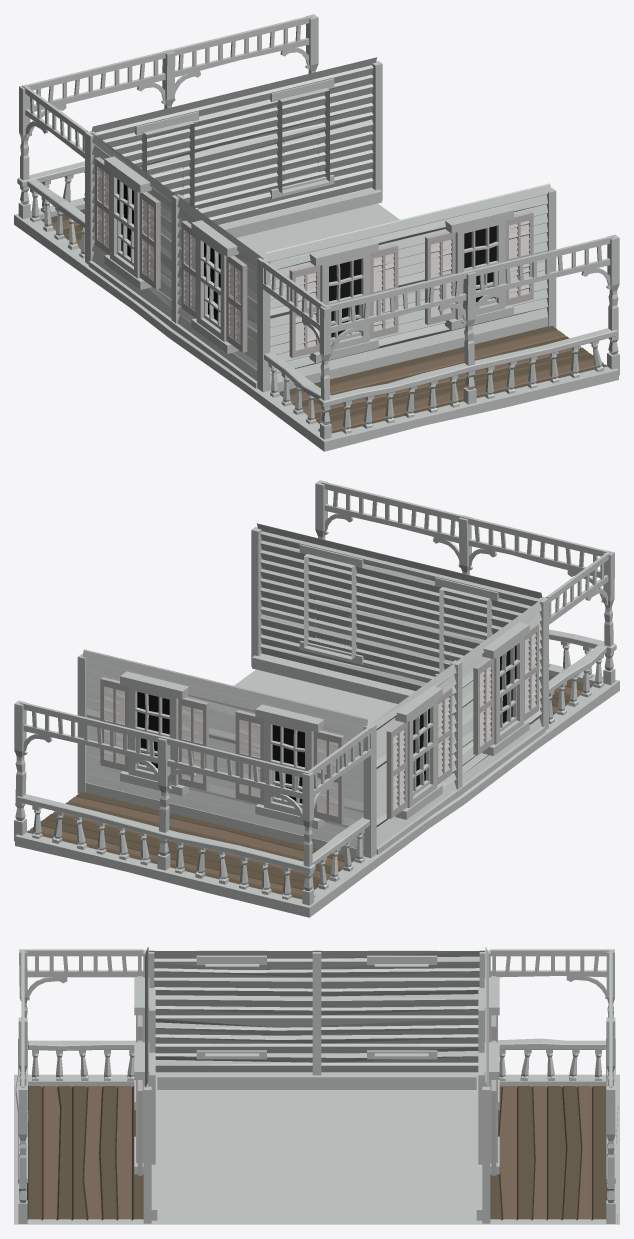
Rendered from SM_Bld_Mansion_End_02.glb.
The picture shows the model from 3 angles, top to bottom: view 1: azimuth 30°, elevation 25°; view 2: azimuth 150°, elevation 25°; view 3: azimuth 270°, elevation 25°; orthographic projection. The views are drawn at different scales.
Parts seen in each view (by area): view 1: SM_Bld_Mansion_End_02_part00; view 2: SM_Bld_Mansion_End_02_part00; view 3: SM_Bld_Mansion_End_02_part00.
Part boxes in pixels (x1,y1,x2,y2): SM_Bld_Mansion_End_02_part00: (14,14,619,451); SM_Bld_Mansion_End_02_part00: (14,480,619,917); SM_Bld_Mansion_End_02_part00: (14,947,619,1224).
Size of the model in its own units: 6.27 by 2.9 by 11.18.
1 material, 1 textured.
